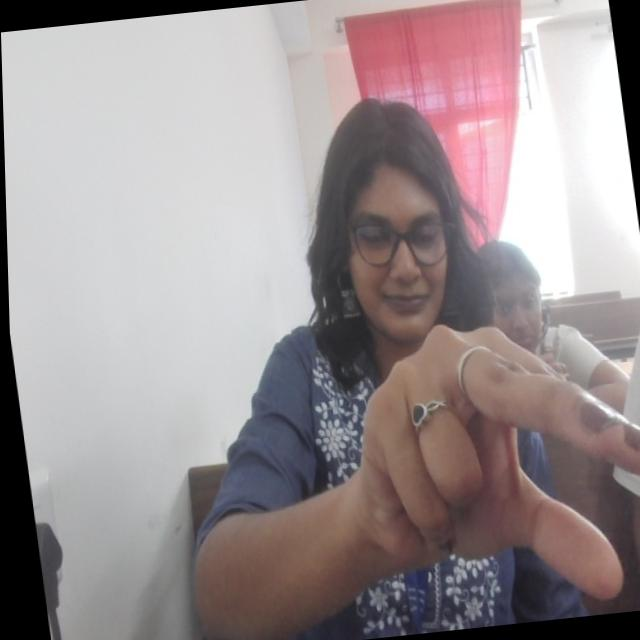no: (335, 299, 640, 628)
